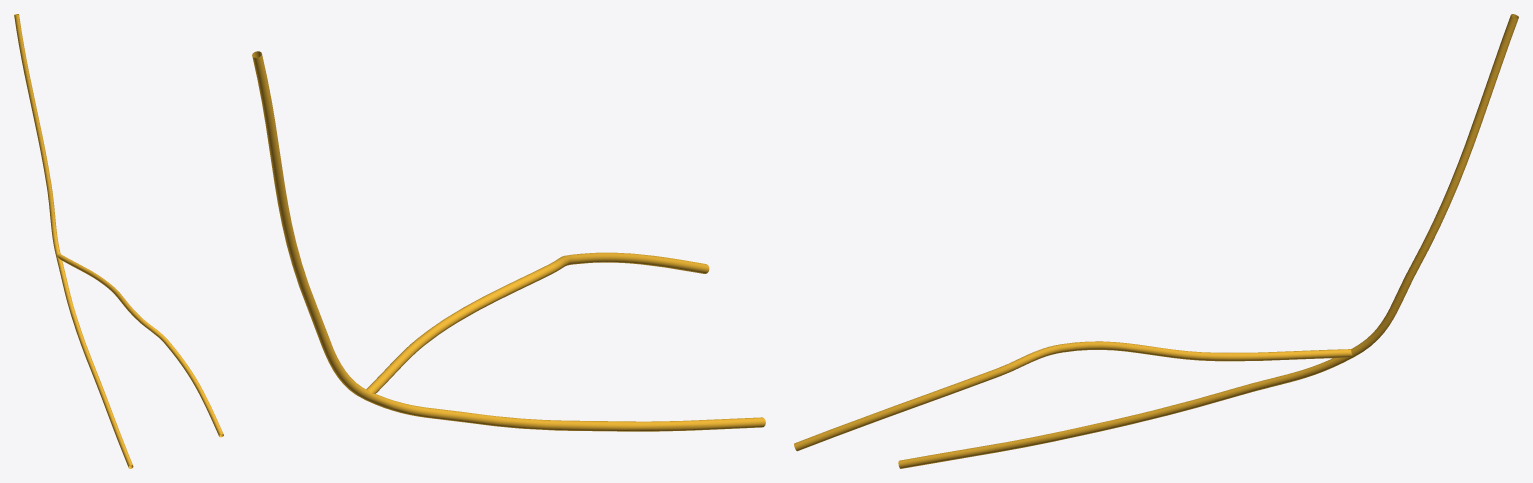
Rendered from nervoso-intermediate-dorsal-cutaneous-nerve-of-foot-r.glb.
3 renders of one model, left to right at view 1: azimuth 30°, elevation 25°; view 2: azimuth 150°, elevation 25°; view 3: azimuth 270°, elevation 25°, orthographic. The views are drawn at different scales.
Parts seen in each view (by area): view 1: Intermediate dorsal cutaneous nerve of foot.r; view 2: Intermediate dorsal cutaneous nerve of foot.r; view 3: Intermediate dorsal cutaneous nerve of foot.r.
Part boxes in pixels (x1=…): Intermediate dorsal cutaneous nerve of foot.r: x1=14, y1=14, x2=223, y2=468; Intermediate dorsal cutaneous nerve of foot.r: x1=252, y1=51, x2=765, y2=431; Intermediate dorsal cutaneous nerve of foot.r: x1=794, y1=14, x2=1518, y2=468.
Size of the model in its own units: 0.0174 by 0.066 by 0.0851.
